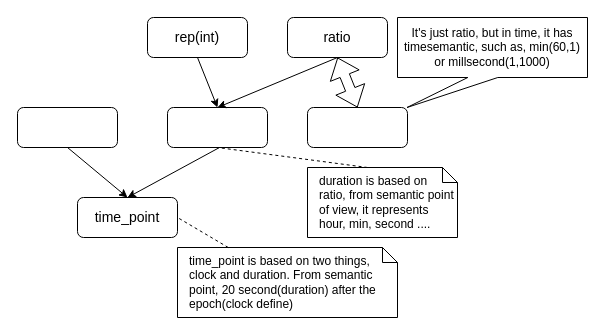
The diagram is 605 pixels wide and 335 high, and some of its shapes have lost their labels. Here are the shapes that lost their labels. From the top down, the centre of each, then its label:
(x=67, y=127): clock
(x=217, y=127): duration
(x=357, y=127): period
